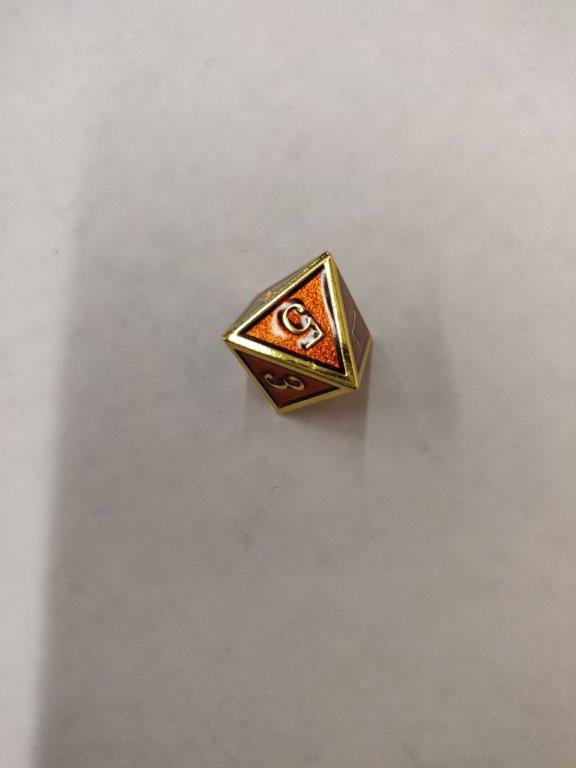d8-5: (216, 248, 376, 422)
